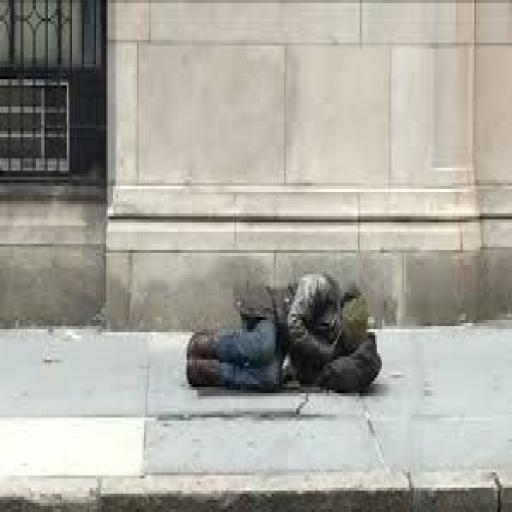sleeping: (183, 265, 384, 396)
